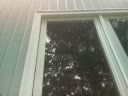window: (47, 20, 98, 96), (116, 19, 128, 36)
